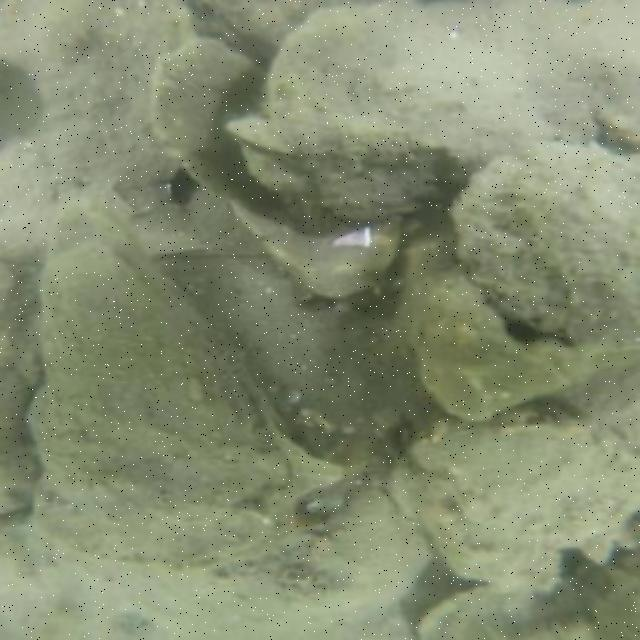Oyster-Closed: (38, 204, 275, 562), (147, 32, 404, 304), (259, 4, 632, 176), (427, 368, 636, 584), (453, 141, 635, 364), (411, 276, 570, 413), (270, 486, 420, 612), (244, 137, 440, 221)
